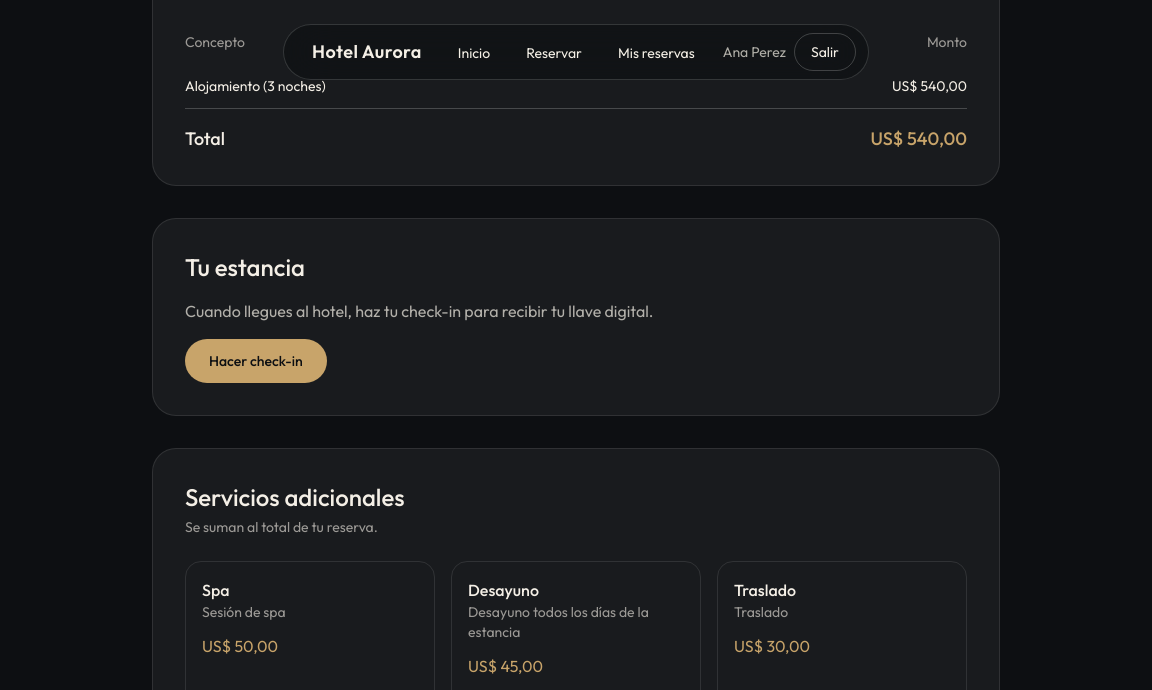
Reservation management panel › checks in and shows the digital key
(page scrolled)
Step 1. Click the button "Hacer check-in" → coordinates (256, 361), box x1=185 y1=339 x2=327 y2=383
(page scrolled)
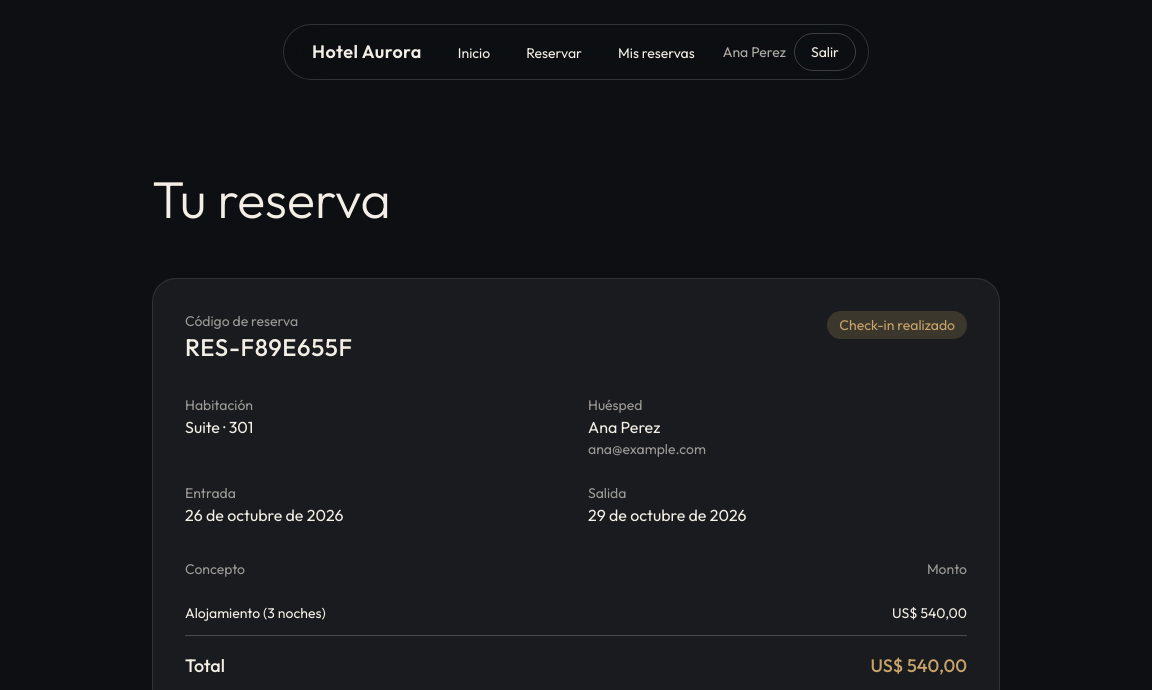
Check: the text "Check-in realizado" is shown, box x1=827 y1=311 x2=967 y2=339
